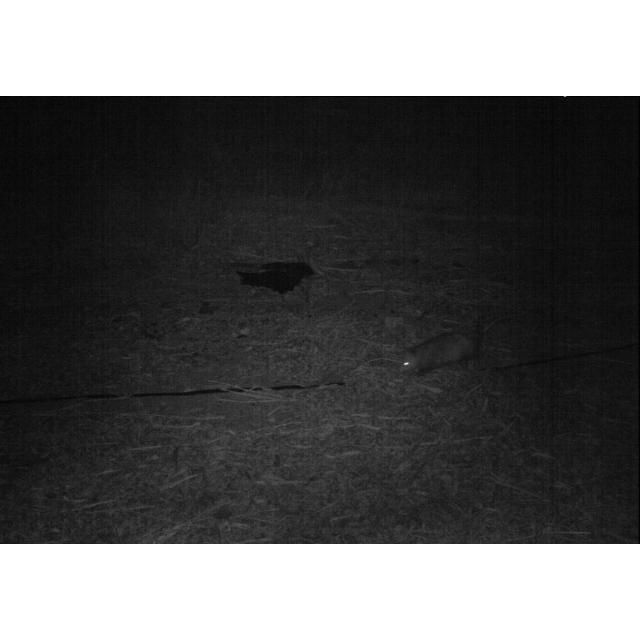animals: (397, 327, 479, 379)
